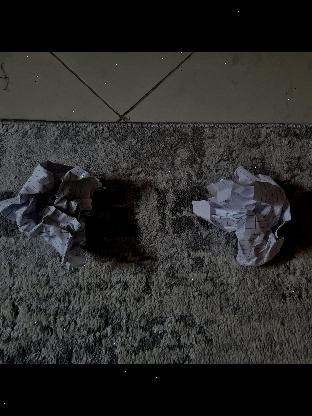Others: (0, 160, 104, 256), (198, 171, 292, 266)
